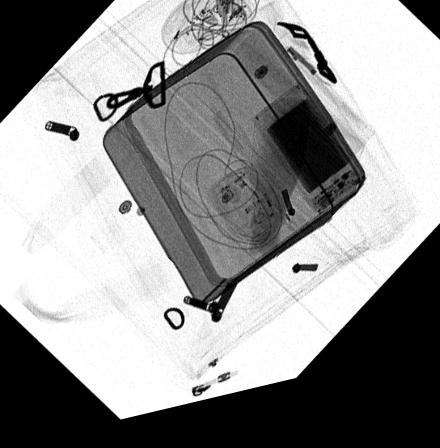Powerbank: (251, 95, 363, 230)
